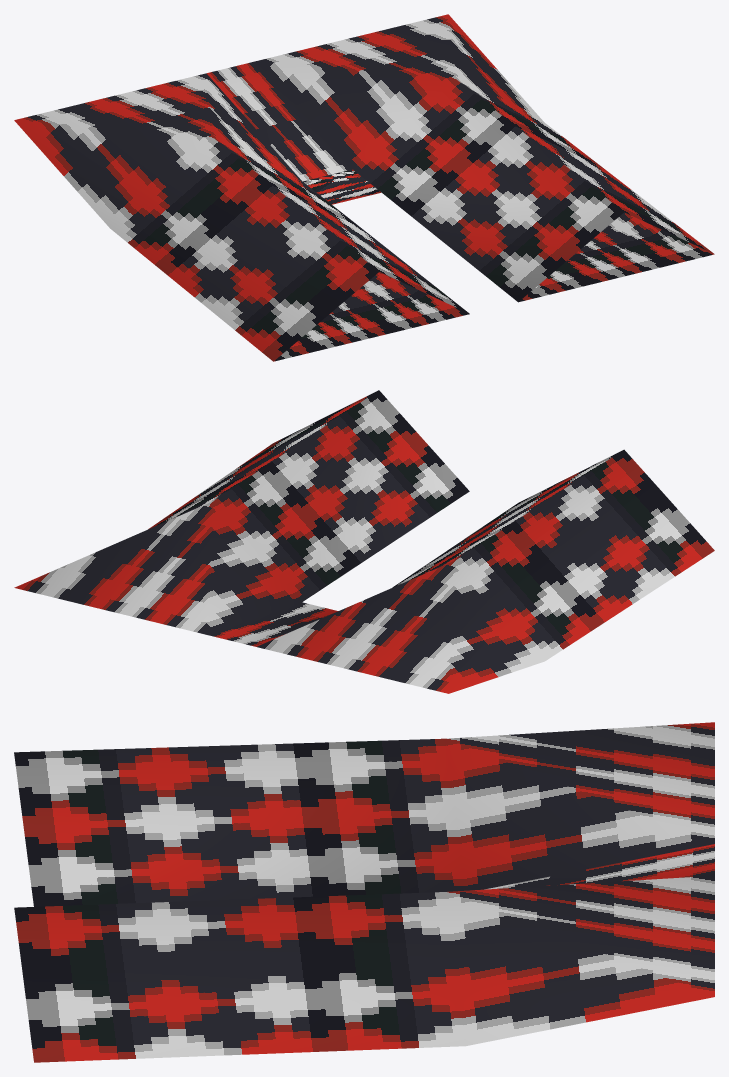
The model's file is 2140pants000_r.gltf.
The picture shows the model from 3 angles, top to bottom: view 1: azimuth 30°, elevation 25°; view 2: azimuth 150°, elevation 25°; view 3: azimuth 270°, elevation 25°; orthographic projection. The views are drawn at different scales.
Parts seen in each view (by area): view 1: 2140pants000_r; view 2: 2140pants000_r; view 3: 2140pants000_r.
Part boxes in pixels (x1=…): 2140pants000_r: x1=14, y1=14, x2=714, y2=361; 2140pants000_r: x1=14, y1=390, x2=714, y2=693; 2140pants000_r: x1=14, y1=722, x2=714, y2=1062.
Size of the model in its own units: 0.7793 by 0.1667 by 0.8264.
Materials: 1 (1 with a texture image).
